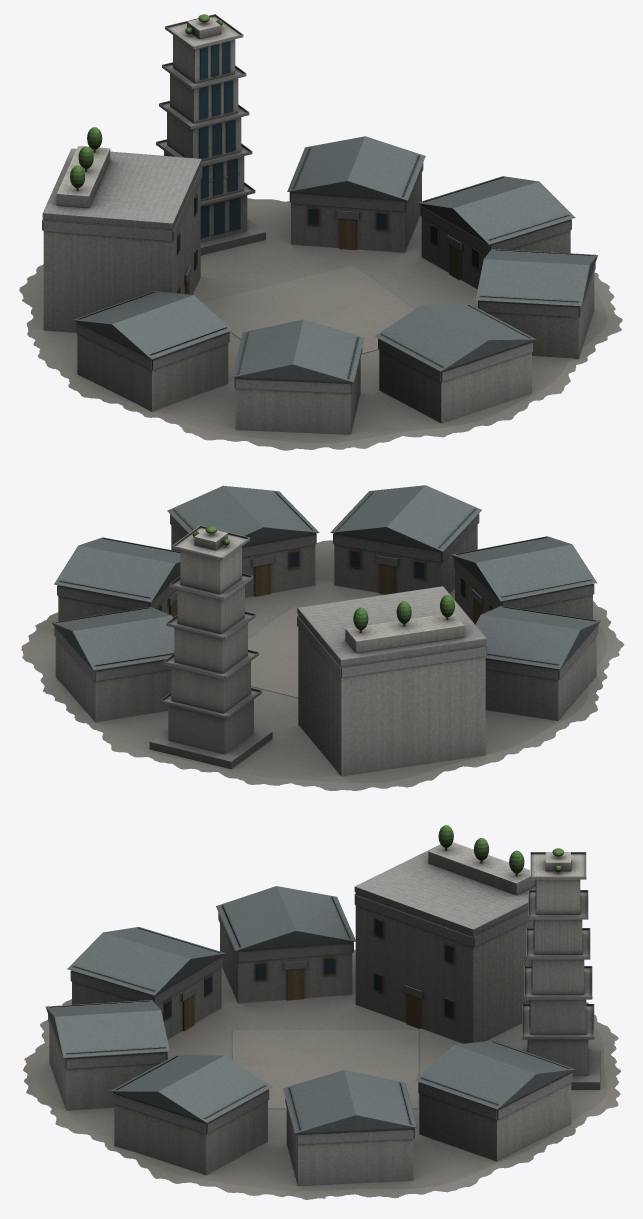
File: modern-town-small-a-monsoon.glb
3 views of the same model, one above another, from view 1: azimuth 30°, elevation 25°; view 2: azimuth 150°, elevation 25°; view 3: azimuth 270°, elevation 25° (orthographic).
Parts seen in each view (by area): view 1: LOD0; view 2: LOD0; view 3: LOD0.
Boxes of the visible parts, <box> form: LOD0: <box>19,14,622,450</box>; LOD0: <box>21,485,624,790</box>; LOD0: <box>23,825,620,1199</box>.
Size of what is drawn, in the model's own units: 3.96 by 1.6 by 3.97.
Materials: 3 (3 with a texture image).
